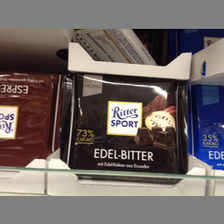chocolate: (64, 75, 185, 183)
